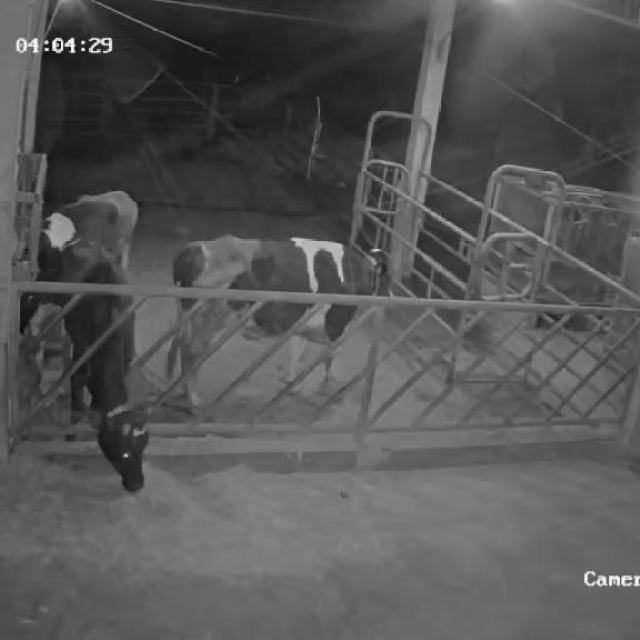feeding: (52, 237, 157, 502)
